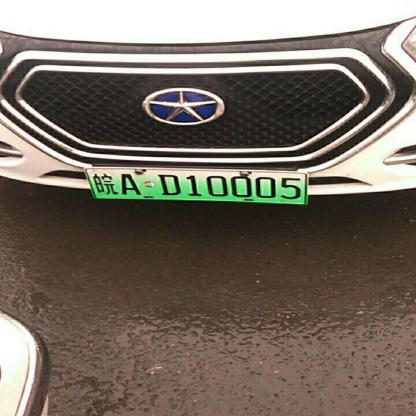lp: (84, 170, 306, 204)
